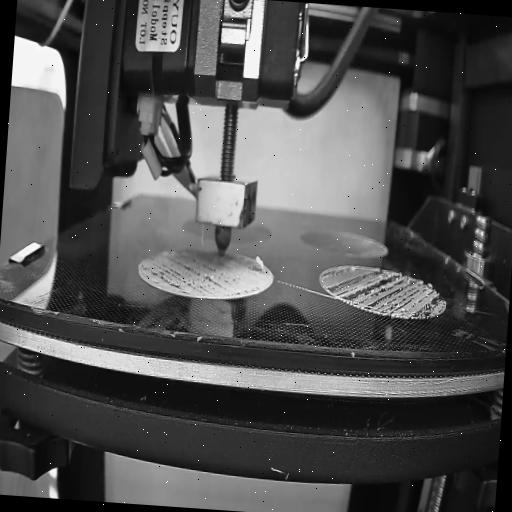under_extrusion: (320, 268, 445, 322), (142, 252, 272, 300)
